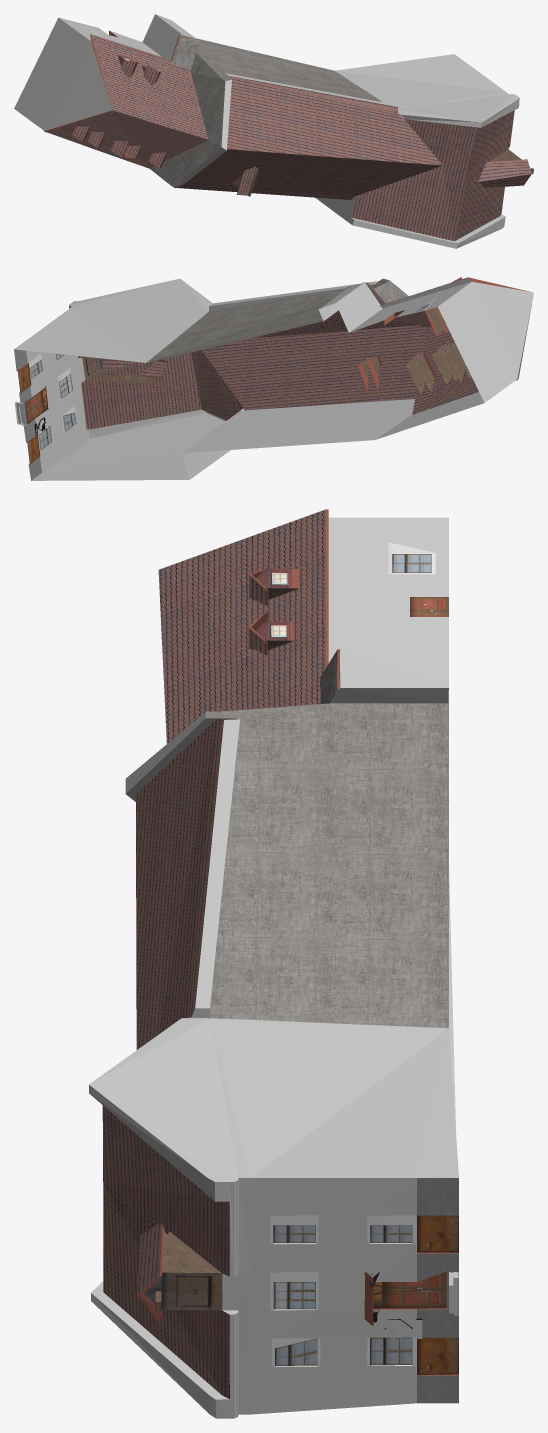
The model's file is Vene_29-origo.obj.
The picture shows the model from 3 angles, top to bottom: view 1: azimuth 30°, elevation 25°; view 2: azimuth 150°, elevation 25°; view 3: azimuth 270°, elevation 25°; orthographic projection. The views are drawn at different scales.
Visible parts, largest first — view 1: vene29; view 2: vene29; view 3: vene29.
Boxes of the visible parts, x1=… form: vene29: x1=14, y1=14, x2=533, y2=248; vene29: x1=14, y1=277, x2=533, y2=480; vene29: x1=89, y1=509, x2=458, y2=1418.
Size of the model in its own units: 46.69 by 26.5 by 16.69.
